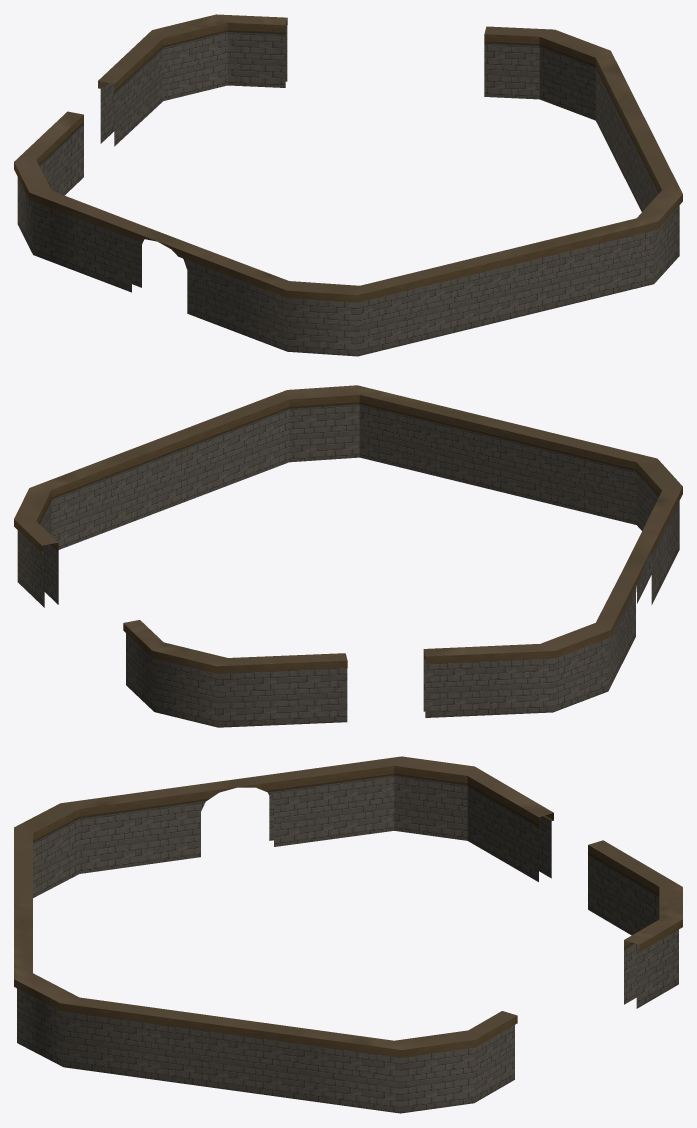
Rendered from Time limit_Wall_02.FBX.
3 views of the same model, one above another, from view 1: azimuth 30°, elevation 25°; view 2: azimuth 150°, elevation 25°; view 3: azimuth 270°, elevation 25° (orthographic). The views are drawn at different scales.
Parts seen in each view (by area): view 1: Time limit_Wall_02; view 2: Time limit_Wall_02; view 3: Time limit_Wall_02.
Part boxes in pixels (bbox=[...]): Time limit_Wall_02: bbox=[14, 14, 682, 356]; Time limit_Wall_02: bbox=[14, 385, 682, 727]; Time limit_Wall_02: bbox=[14, 756, 682, 1113].
Size of the model in its own units: 89.83 by 9.26 by 86.46.
